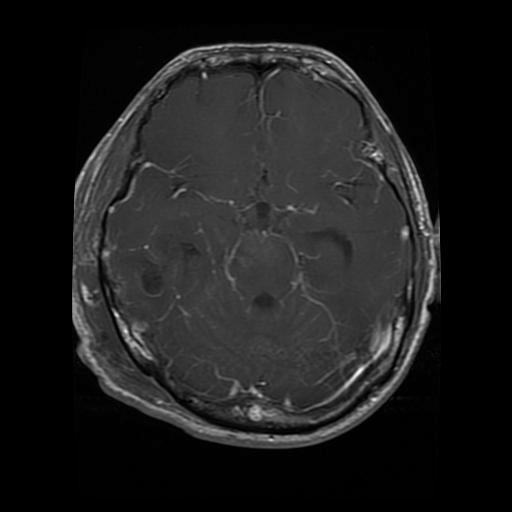Tumour-Glioma: (125, 233, 212, 305)
